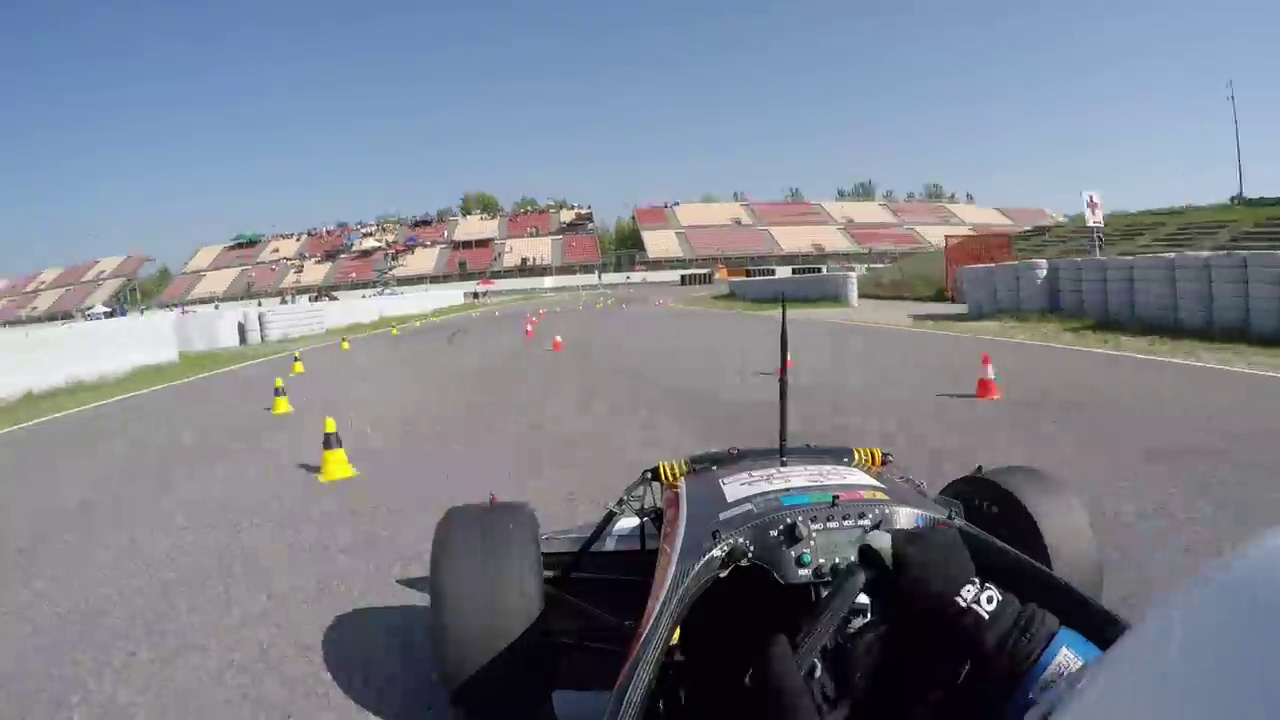Cone: (317, 414, 359, 485), (972, 349, 1006, 400), (270, 375, 293, 414)
